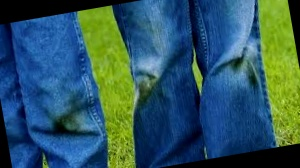earth: (236, 56, 261, 85), (134, 77, 160, 102), (51, 113, 77, 135)
